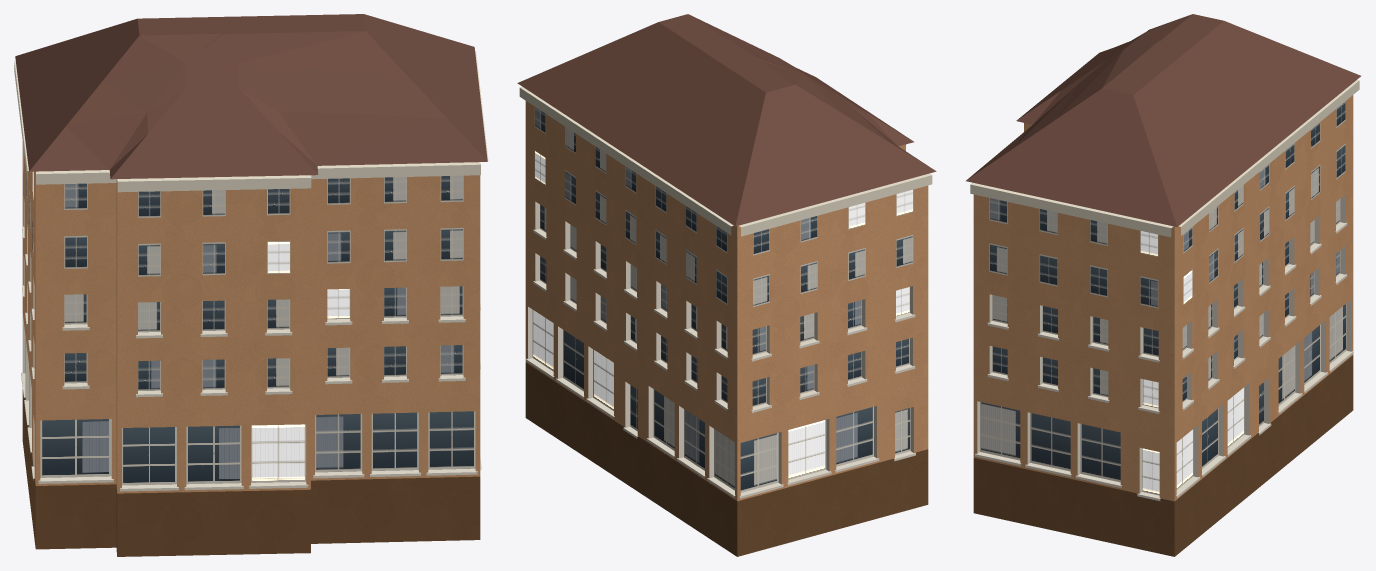
The model's file is z5R2_baden_sw_orange.glb.
The picture shows the model from 3 angles, left to right: view 1: azimuth 30°, elevation 25°; view 2: azimuth 150°, elevation 25°; view 3: azimuth 270°, elevation 25°; orthographic projection. The views are drawn at different scales.
Visible parts, largest first — view 1: z5R2_baden_sw_orange; view 2: z5R2_baden_sw_orange; view 3: z5R2_baden_sw_orange.
Boxes of the visible parts, box(x1,y1,x2,y2) form: z5R2_baden_sw_orange: box(14, 14, 488, 556); z5R2_baden_sw_orange: box(517, 14, 936, 556); z5R2_baden_sw_orange: box(966, 14, 1360, 556).
Size of the model in its own units: 22.89 by 22.03 by 19.43.
3 materials, 3 textured.
